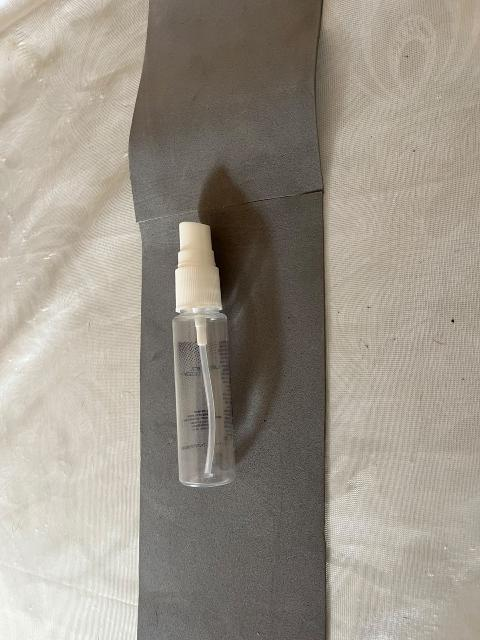PET: (140, 189, 275, 513)
